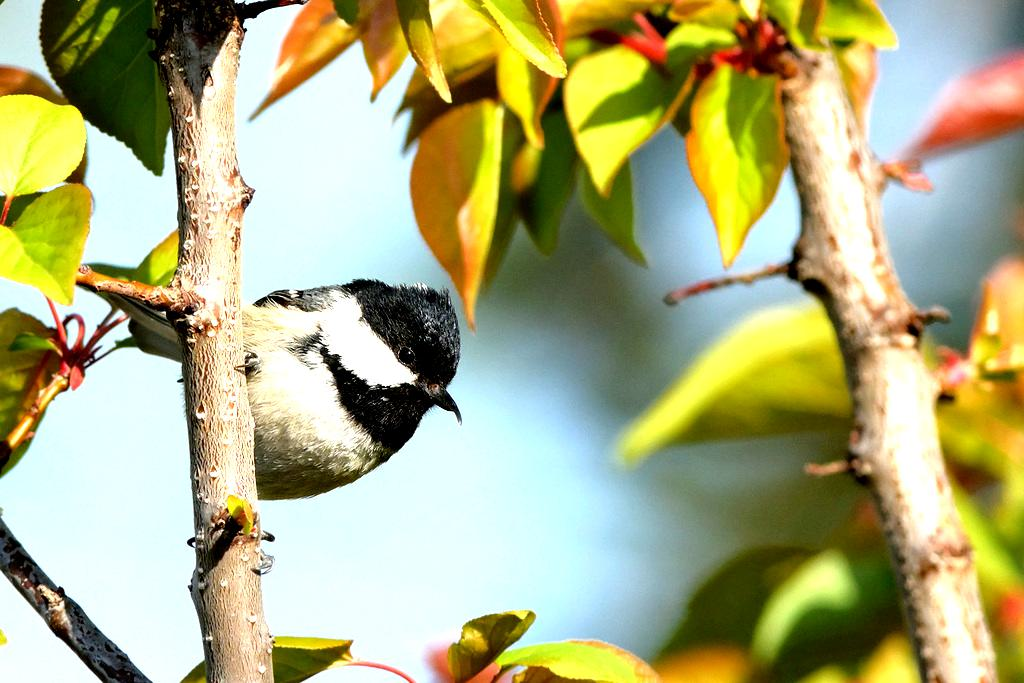PeriparusAter: (92, 275, 462, 501)
